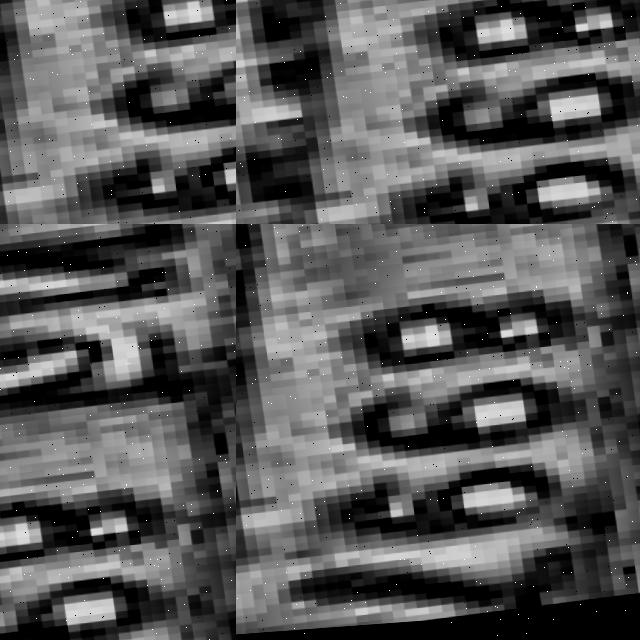license-plate: (236, 224, 640, 640), (0, 224, 236, 640)
